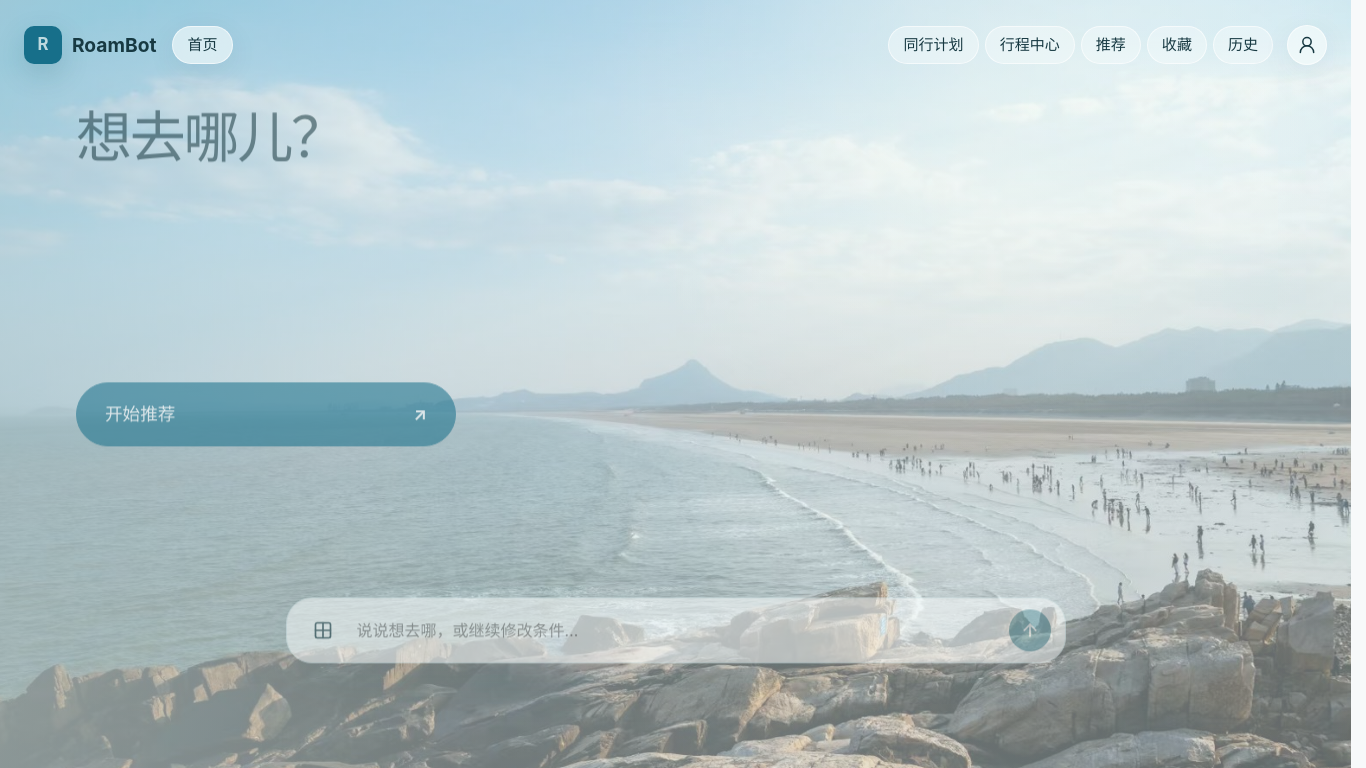
progressive SearchWorkspace business regression › opens login for an expired assistant session while retaining the composer text
Type "苏州10月11日" into the text box named "继续补充条件" at [676, 691], box x1=356 y1=669 x2=996 y2=713
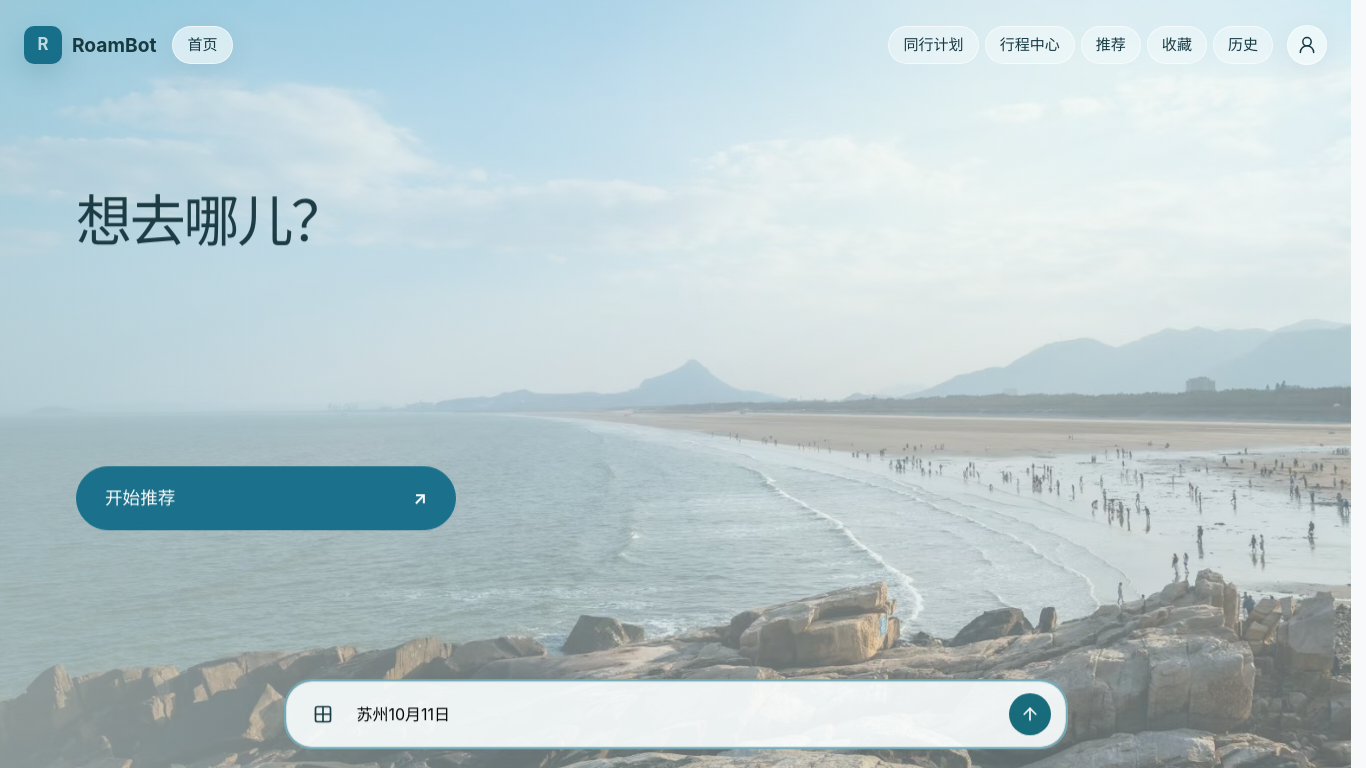
Click the button named "发送消息" at [1030, 718], box x1=1008 y1=697 x2=1050 y2=739
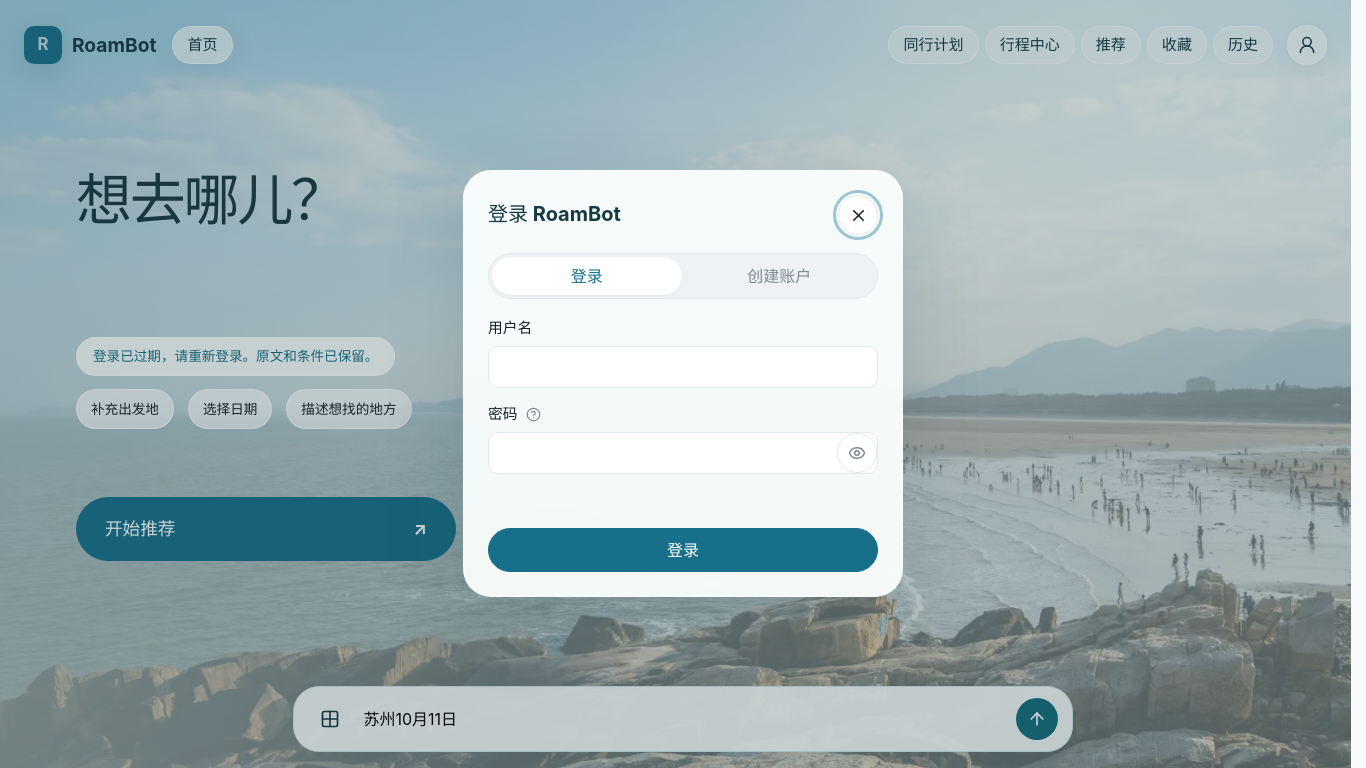
Check: the dialog "登录 RoamBot" is shown, box x1=463 y1=170 x2=903 y2=598
